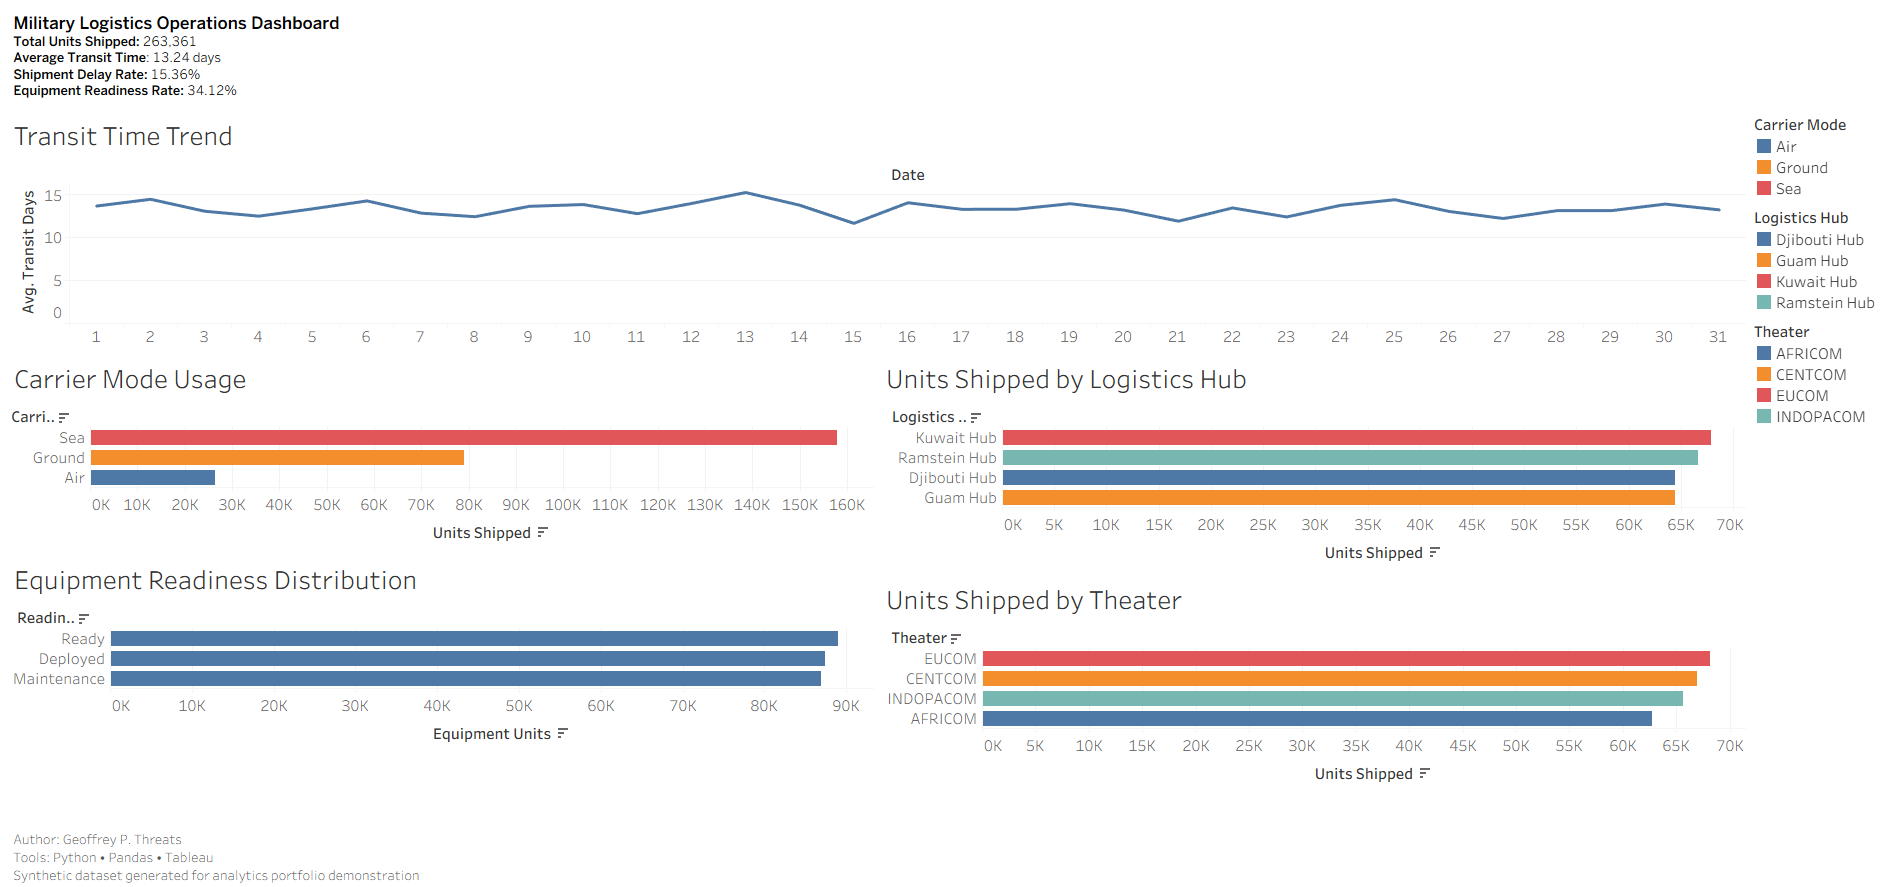

The page's visual inventory and layout, read from the dashboard file:
{"tool":"tableau","page":{"name":"Military Logistics Dashboard","canvas":[1000,1000],"units":"permille","ordinal":1},"visuals":[{"type":"text","box":[4.7,9.8,990.5,117.2]},{"type":"worksheet","title":"Transit Time Trend","mark":"Line","rows":["Transit_Days"],"cols":["Date"],"box":[4.7,127,895.6,267.7]},{"type":"legend","title":"Carrier Mode Usage","param":"[federated.18q88h91gv92em1argnfd028e3bh].[none:Carrier_Mode:nk]","box":[900.4,127,94.9,113.6]},{"type":"legend","title":"Units Shipped by Logistics Hub","param":"[federated.00xi72d0hgvbn11f5wivf1glomc3].[none:Logistics_Hub:nk]","box":[900.4,240.5,94.9,139.2]},{"type":"legend","title":"Units Shipped by Theater","param":"[federated.099lekp063269l15up0rr1b5noli].[none:Theater:nk]","box":[900.4,379.7,94.9,139.2]},{"type":"worksheet","title":"Carrier Mode Usage","mark":"Automatic","rows":["Carrier_Mode"],"cols":["Units_Shipped"],"box":[4.7,394.7,447.8,245.4]},{"type":"worksheet","title":"Units Shipped by Logistics Hub","mark":"Automatic","rows":["Logistics_Hub"],"cols":["Units_Shipped"],"box":[452.5,394.7,447.8,258.7]},{"type":"worksheet","title":"Equipment Readiness Distribution","mark":"Automatic","rows":["Readiness_Status"],"cols":["Units_Shipped"],"box":[4.7,640.1,447.8,245.4]},{"type":"worksheet","title":"Units Shipped by Theater","mark":"Bar","rows":["Theater"],"cols":["Units_Shipped"],"box":[452.5,653.4,447.8,258.7]},{"type":"text","box":[4.7,912.1,990.5,78.1]}]}

Visuals, with their boxes on the dashboard's canvas, which has no fixed pixel size, in thousandths of its width and height (x1, y1, x2, y2). These are canvas units, not pixel positions in the 1903x887 screenshot, which may show the page scaled, cropped or inside an application window:
text: x1=5, y1=10, x2=995, y2=127
"Transit Time Trend" worksheet (Line marks): x1=5, y1=127, x2=900, y2=395
"Carrier Mode Usage" legend: x1=900, y1=127, x2=995, y2=241
"Units Shipped by Logistics Hub" legend: x1=900, y1=240, x2=995, y2=380
"Units Shipped by Theater" legend: x1=900, y1=380, x2=995, y2=519
"Carrier Mode Usage" worksheet: x1=5, y1=395, x2=452, y2=640
"Units Shipped by Logistics Hub" worksheet: x1=452, y1=395, x2=900, y2=653
"Equipment Readiness Distribution" worksheet: x1=5, y1=640, x2=452, y2=886
"Units Shipped by Theater" worksheet (Bar marks): x1=452, y1=653, x2=900, y2=912
text: x1=5, y1=912, x2=995, y2=990
